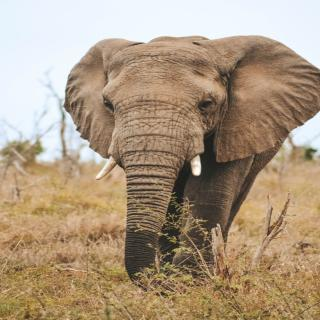Elephant: (64, 30, 320, 302)
